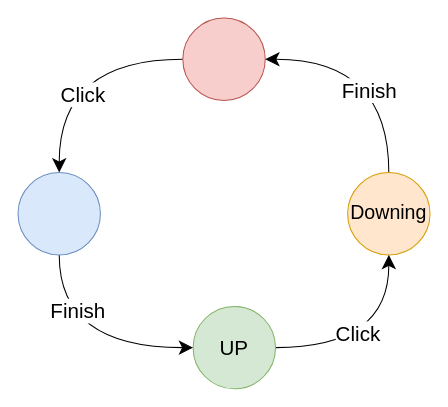
Image size: 448x407. Some labels were removed from this diagram. Here are the shapes that lost their labels. From the top down, the centre of each, then its label:
point (223, 58): Down
point (58, 213): Upping
